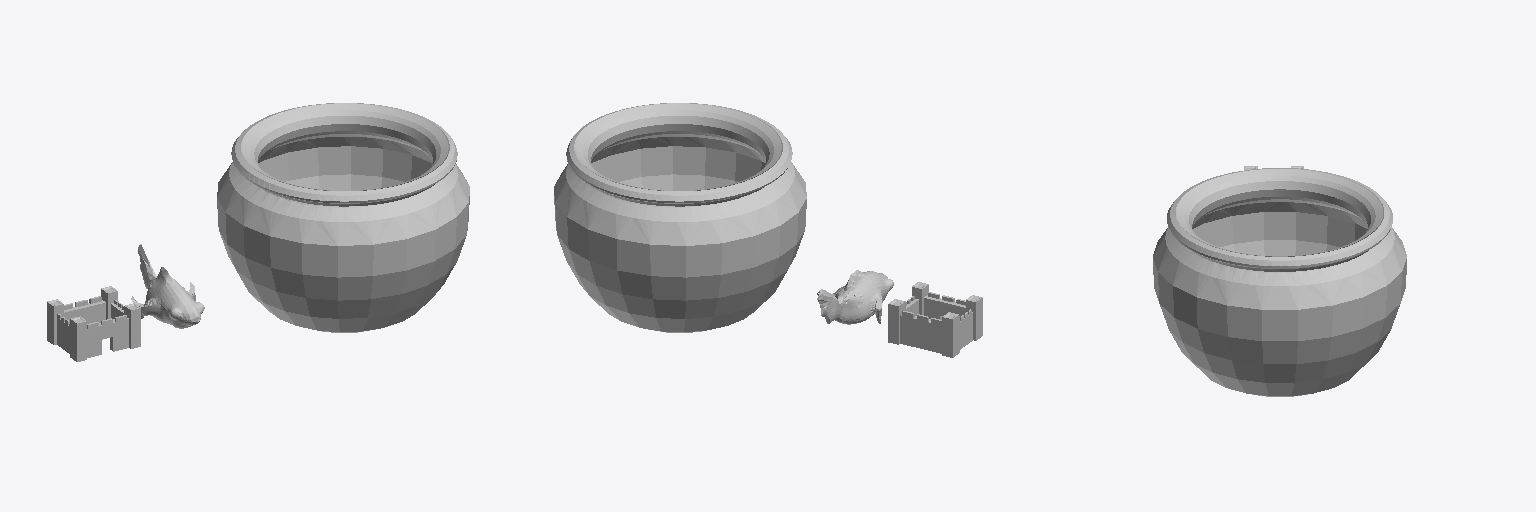
File: Challenge 7.obj
3 views of the same model, side by side, from view 1: azimuth 30°, elevation 25°; view 2: azimuth 150°, elevation 25°; view 3: azimuth 270°, elevation 25° (orthographic).
Parts seen in each view (by area): view 1: Fishbowl, textureEditorIsolateSelectSet Castle, Fish1; view 2: Fishbowl, textureEditorIsolateSelectSet Castle, Fish1; view 3: Fishbowl.
Boxes of the visible parts, x1=… form: Fishbowl: x1=217, y1=103, x2=469, y2=332; textureEditorIsolateSelectSet Castle: x1=47, y1=286, x2=140, y2=361; Fish1: x1=131, y1=244, x2=204, y2=328; Fishbowl: x1=554, y1=103, x2=806, y2=332; textureEditorIsolateSelectSet Castle: x1=888, y1=282, x2=982, y2=357; Fish1: x1=817, y1=270, x2=893, y2=324; Fishbowl: x1=1153, y1=168, x2=1406, y2=396.
Bounding box in the file's own units: 21.43 × 9.03 × 12.02.